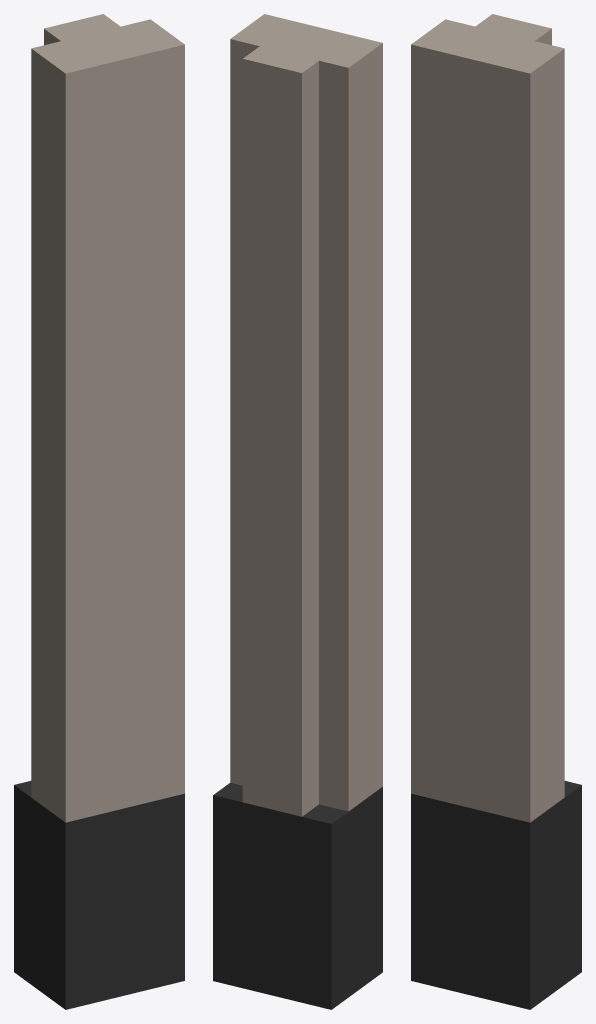
File: Centros.fbx
3 views of the same model, side by side, from view 1: azimuth 30°, elevation 25°; view 2: azimuth 150°, elevation 25°; view 3: azimuth 330°, elevation 25° (orthographic).
Visible parts, largest first — view 1: Parede.069; view 2: Parede.069; view 3: Parede.069.
Boxes of the visible parts, x1=… form: Parede.069: x1=14, y1=14, x2=184, y2=1009; Parede.069: x1=213, y1=14, x2=382, y2=1009; Parede.069: x1=411, y1=14, x2=581, y2=1009.
Bounding box in the file's own units: 40.01 × 300 × 30.
